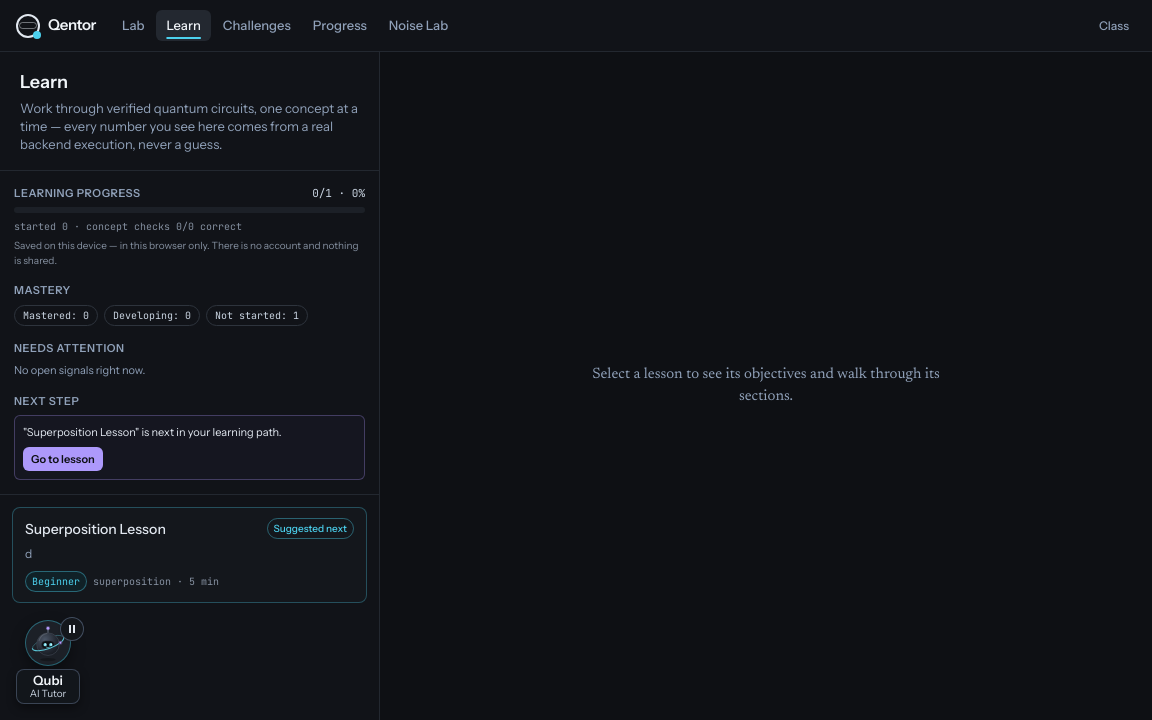
it: Learn leads on to its challenges › says the lesson is finished once it is
The image size is (1152, 720).
Click the button "Superposition Lesson".
click(95, 529)  # box [12,507,367,603]
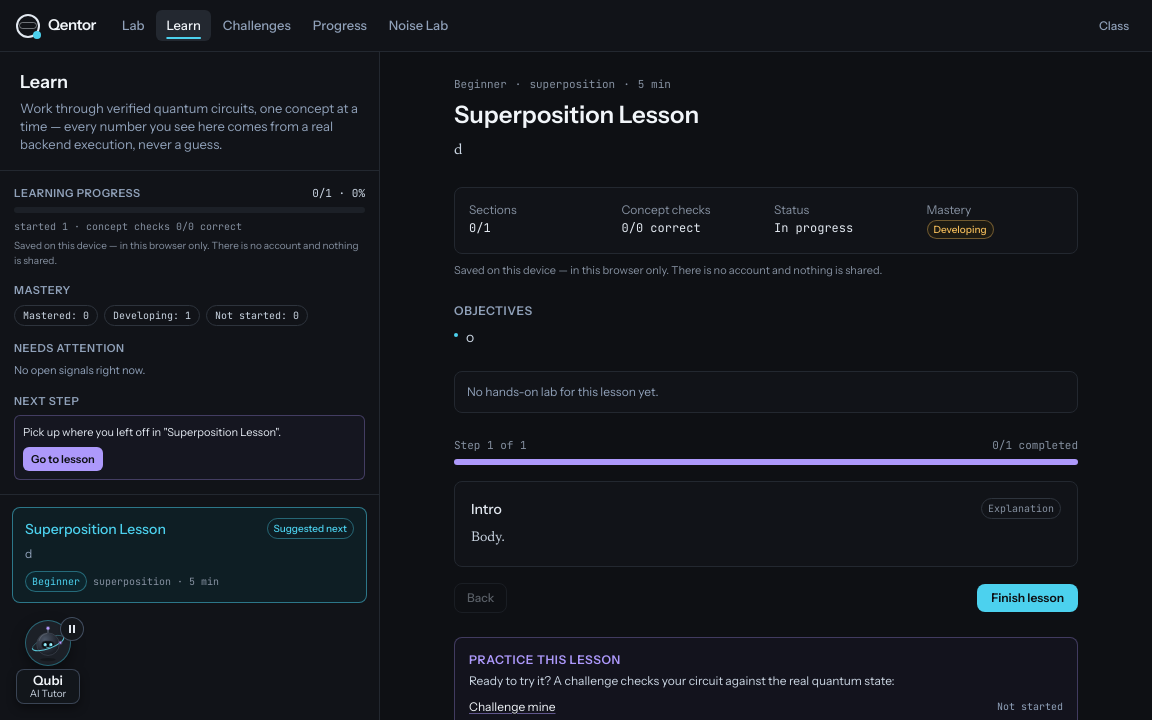
Expected: the text "Body." is shown, [471,531,505,545]
Click the button "Finish lesson".
click(1028, 598)  # box [977,584,1078,612]
(page scrolled)
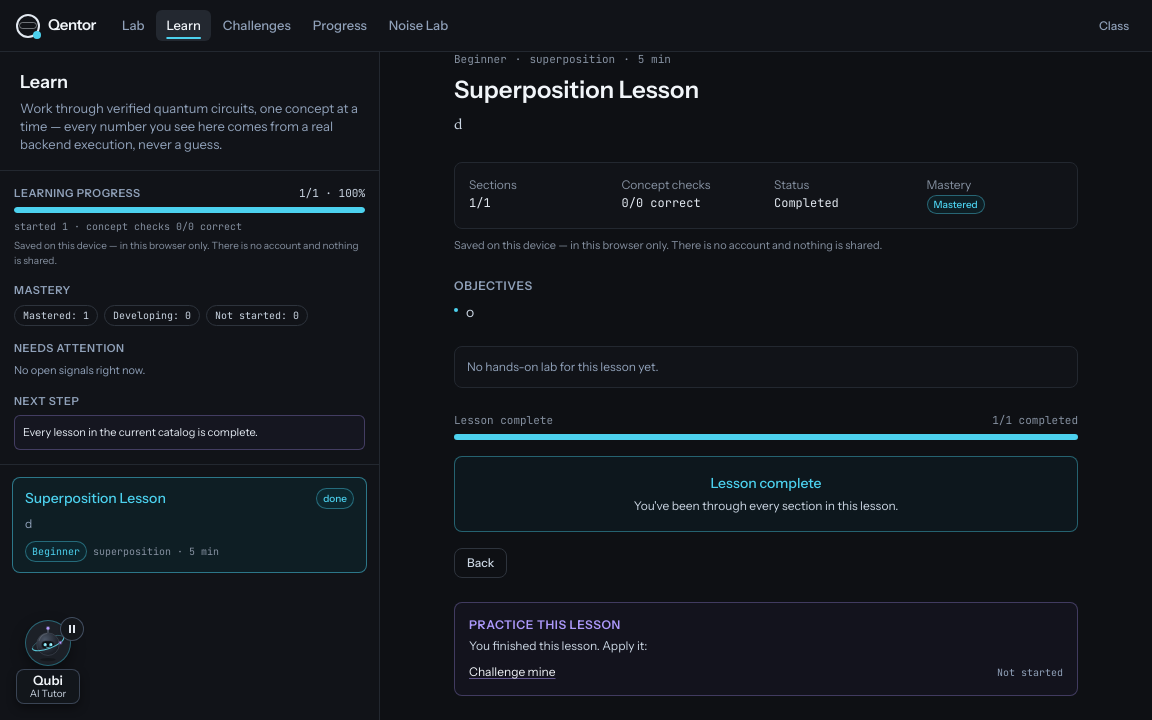
Expected: the element with test id "lesson-challenges" shows "You finished this lesson", [469,638,647,653]
